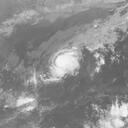cyclone: (47, 47, 82, 80)
